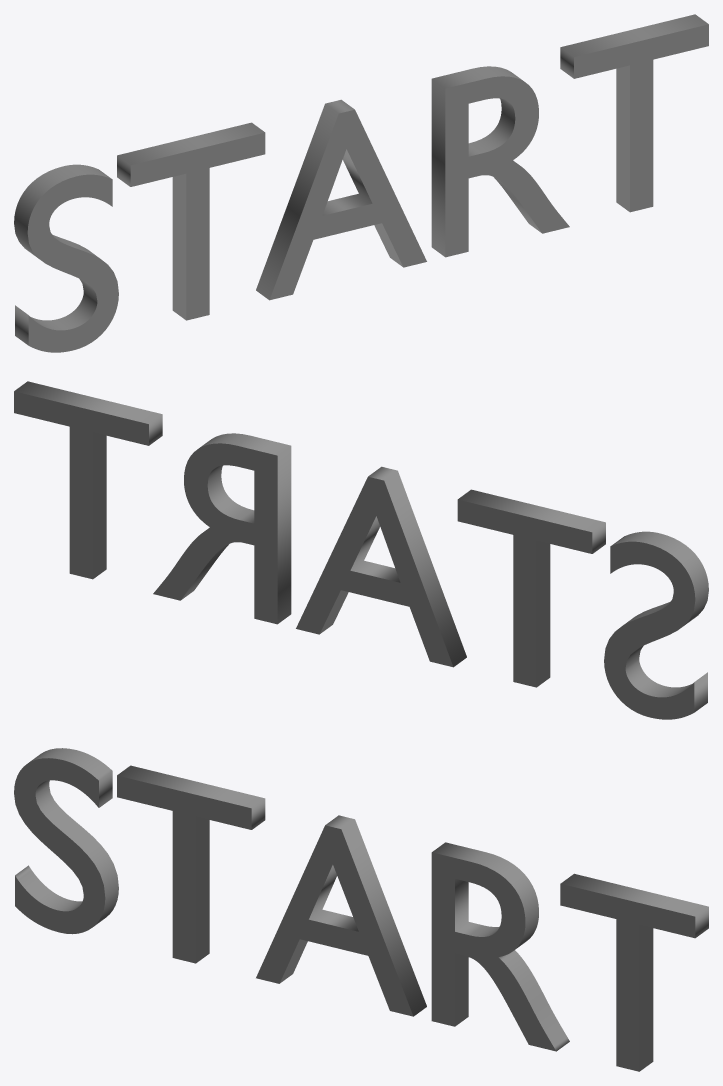
File: start.obj
3 views of the same model, one above another, from view 1: azimuth 30°, elevation 25°; view 2: azimuth 150°, elevation 25°; view 3: azimuth 330°, elevation 25° (orthographic).
Visible parts, largest first — view 1: START; view 2: START; view 3: START.
Boxes of the visible parts, x1,y1,x2,y2 form: START: (14,14,708,352); START: (14,381,708,719); START: (14,748,708,1071).
Bounding box in the file's own units: 2.88 × 0.7 × 0.1.
